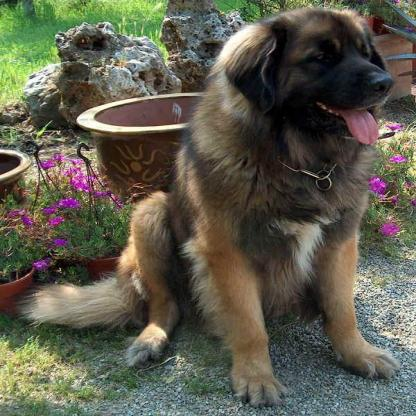Leonberg: (16, 6, 401, 406)
